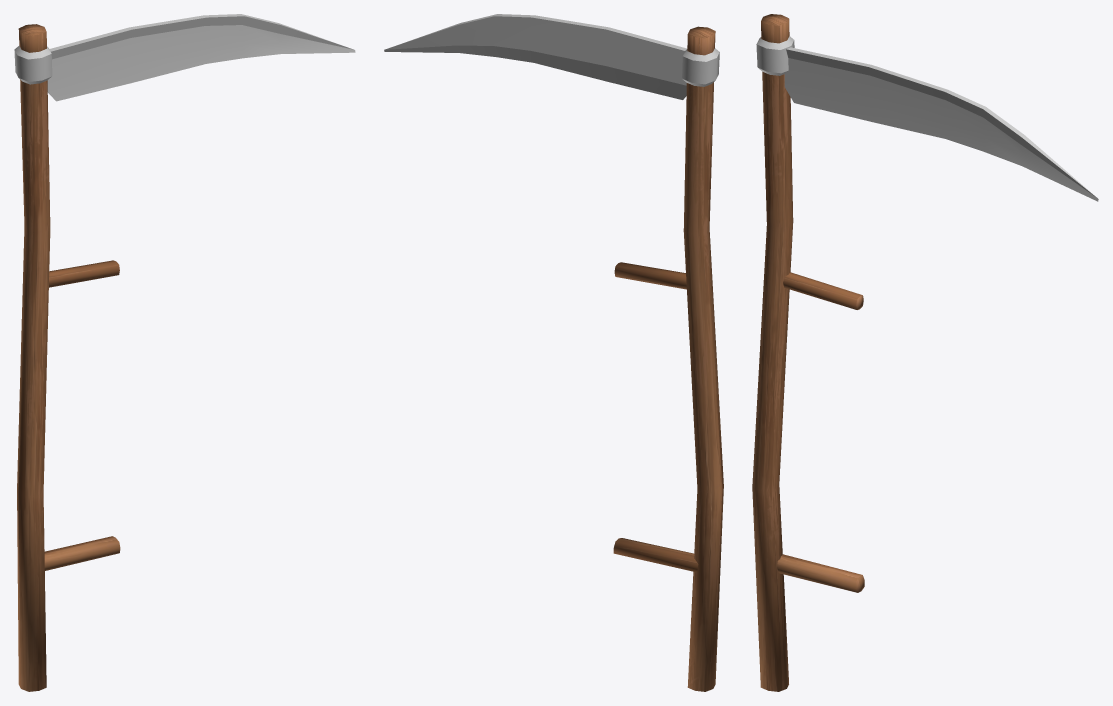
The model's file is Scythe.fbx.
3 views of the same model, side by side, from view 1: azimuth 30°, elevation 25°; view 2: azimuth 150°, elevation 25°; view 3: azimuth 330°, elevation 25° (orthographic).
Visible parts, largest first — view 1: Scythe; view 2: Scythe; view 3: Scythe.
Part boxes in pixels (box(x1,y1,x2,y2)): Scythe: box(14, 14, 355, 691); Scythe: box(384, 14, 723, 691); Scythe: box(752, 14, 1098, 691).
Bounding box in the file's own units: 1.21 × 2.25 × 0.1126.
